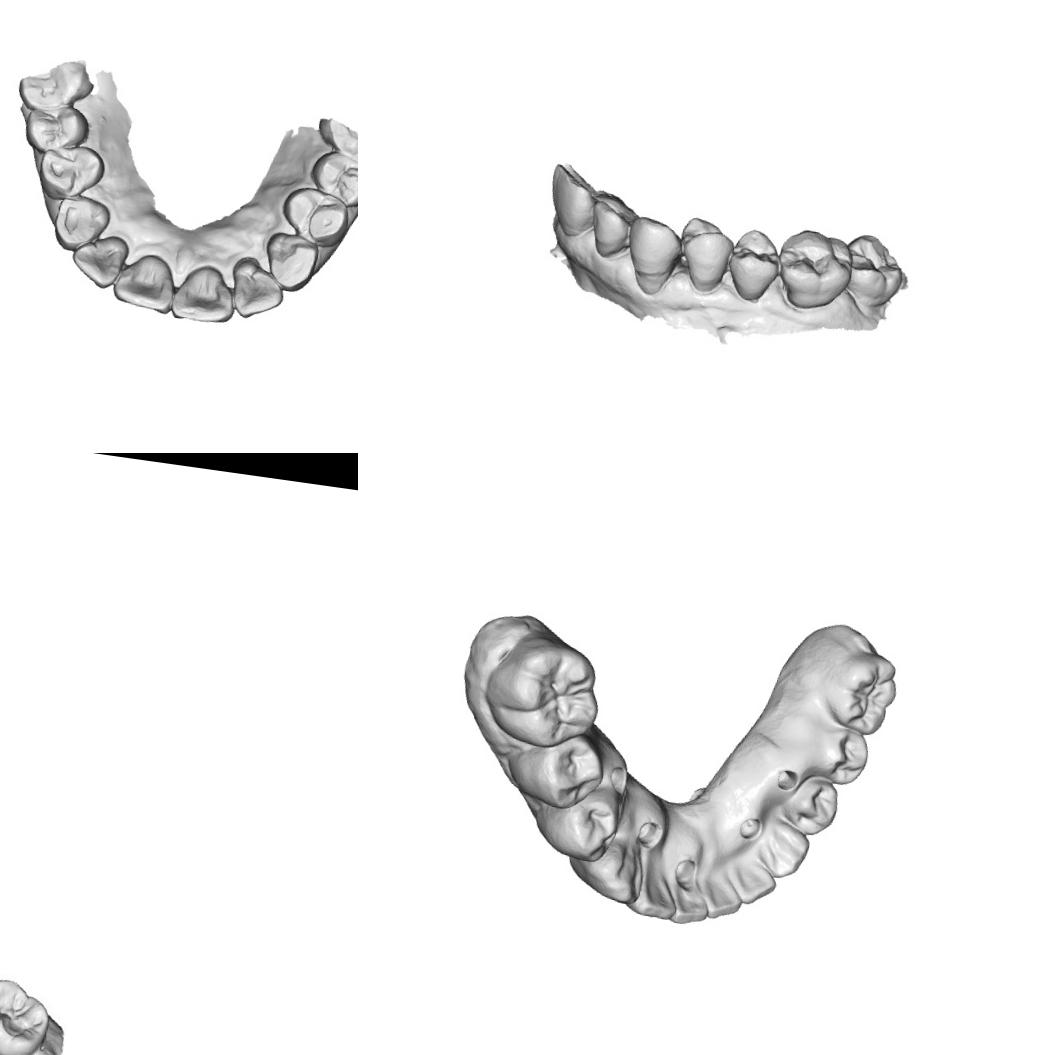canine: (620, 213, 685, 290), (50, 191, 114, 255), (583, 840, 645, 906), (260, 229, 322, 294), (754, 816, 812, 882)
incisor: (108, 249, 182, 317), (168, 260, 240, 326), (544, 158, 600, 241), (225, 253, 289, 322), (586, 188, 640, 263), (68, 229, 130, 292), (628, 856, 682, 925), (698, 872, 746, 924), (730, 856, 779, 906), (667, 875, 711, 930)
molar: (476, 626, 610, 758), (814, 644, 903, 736), (772, 225, 856, 318), (838, 232, 908, 314), (0, 974, 53, 1055)
premolar: (548, 778, 628, 865), (523, 733, 605, 813), (277, 182, 353, 252), (674, 215, 736, 296), (804, 721, 874, 792), (724, 224, 784, 306), (34, 140, 108, 206), (779, 770, 843, 838), (22, 98, 93, 158), (305, 146, 358, 212)
